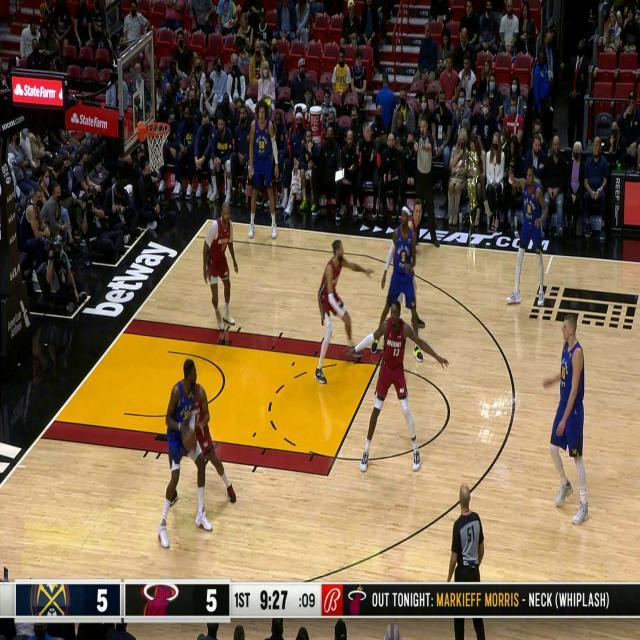rim: (182, 426, 196, 454)
